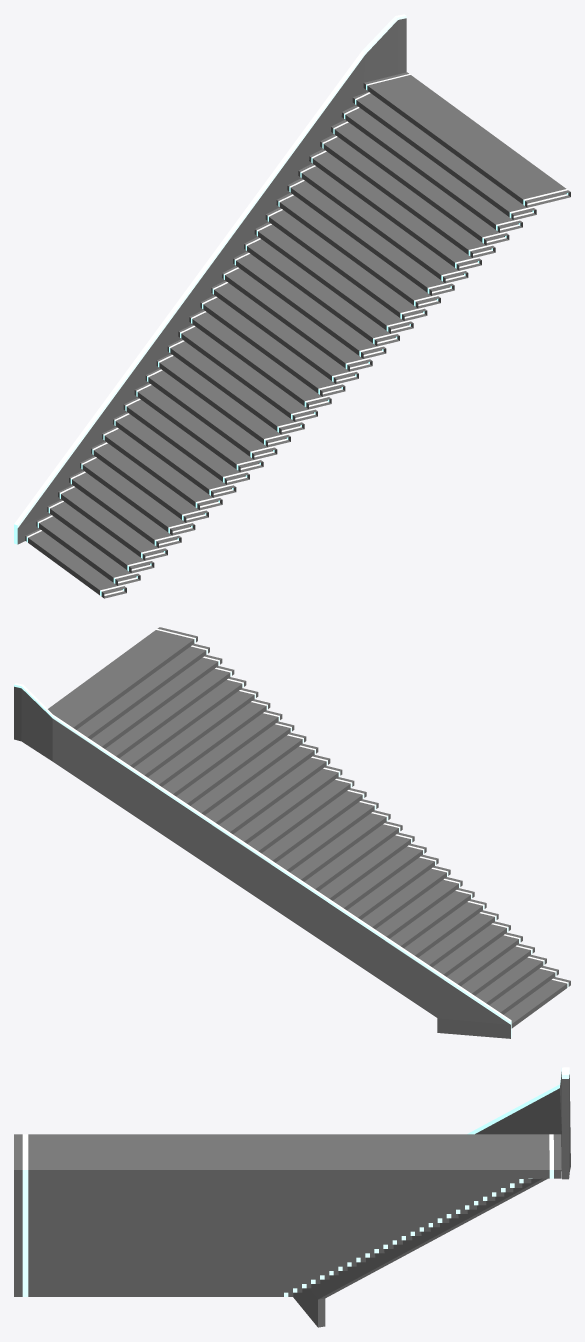
Rendered from Stairs_F_R.fbx.
3 renders of one model, top to bottom at view 1: azimuth 30°, elevation 25°; view 2: azimuth 150°, elevation 25°; view 3: azimuth 270°, elevation 25°, orthographic. The views are drawn at different scales.
Parts seen in each view (by area): view 1: Stairs_F_R; view 2: Stairs_F_R; view 3: Stairs_F_R.
Boxes of the visible parts, <box> form: Stairs_F_R: <box>14,14,570,598</box>; Stairs_F_R: <box>14,627,570,1038</box>; Stairs_F_R: <box>14,1067,570,1327</box>.
Bounding box in the file's own units: 1287 × 900 × 777.
